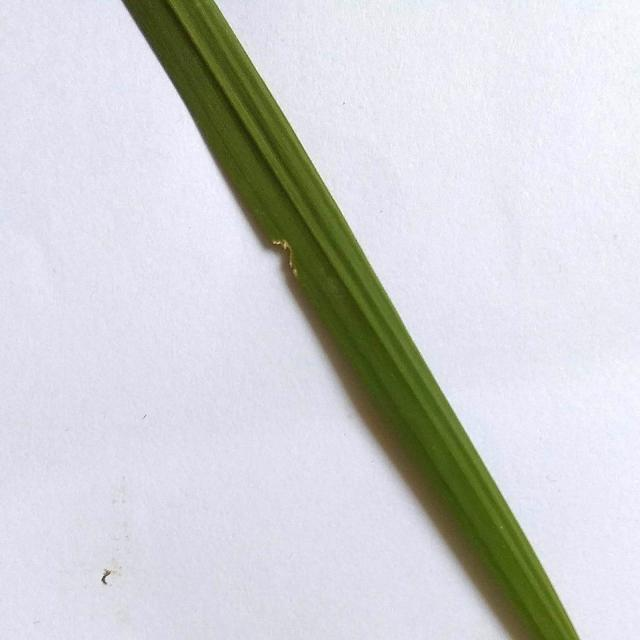healthy: (118, 0, 640, 640)
